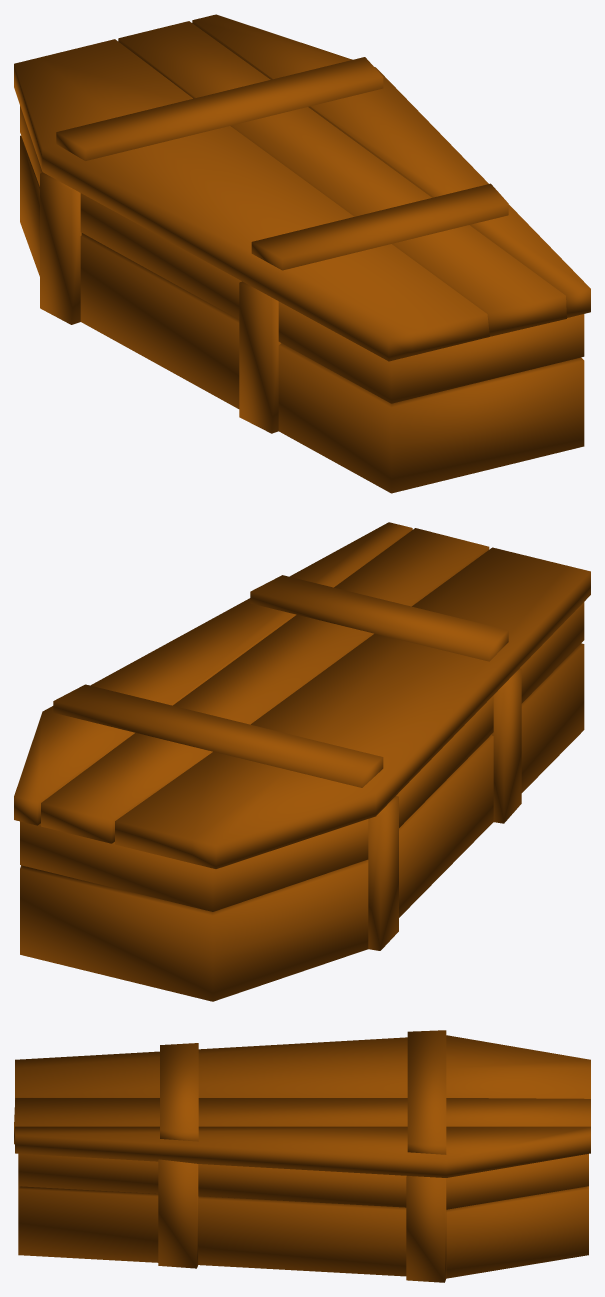
File: Western_WoodCoffin_Parts.fbx
The picture shows the model from 3 angles, top to bottom: view 1: azimuth 30°, elevation 25°; view 2: azimuth 150°, elevation 25°; view 3: azimuth 270°, elevation 25°; orthographic projection. The views are drawn at different scales.
Parts seen in each view (by area): view 1: CoffinWood.Parts, CoffinWood.Parts.005, CoffinWood.Parts.004, CoffinWood.Parts.003, CoffinWood.Parts.002, CoffinWood.Parts.001, CoffinWood.Parts.007, CoffinWood.Parts.006; view 2: CoffinWood.Parts, CoffinWood.Parts.005, CoffinWood.Parts.004, CoffinWood.Parts.003, CoffinWood.Parts.002, CoffinWood.Parts.001, CoffinWood.Parts.007, CoffinWood.Parts.006; view 3: CoffinWood.Parts, CoffinWood.Parts.005, CoffinWood.Parts.003, CoffinWood.Parts.004, CoffinWood.Parts.002, CoffinWood.Parts.009, CoffinWood.Parts.008, CoffinWood.Parts.001.
Boxes of the visible parts, left/top/right/bottom form: CoffinWood.Parts: left=20, top=106, right=584, bottom=493; CoffinWood.Parts.005: left=14, top=39, right=489, bottom=361; CoffinWood.Parts.004: left=118, top=21, right=566, bottom=336; CoffinWood.Parts.003: left=192, top=14, right=590, bottom=317; CoffinWood.Parts.002: left=56, top=57, right=383, bottom=160; CoffinWood.Parts.001: left=251, top=183, right=508, bottom=270; CoffinWood.Parts.007: left=40, top=172, right=81, bottom=324; CoffinWood.Parts.006: left=239, top=281, right=280, bottom=433; CoffinWood.Parts: left=20, top=602, right=584, bottom=1001; CoffinWood.Parts.005: left=115, top=547, right=590, bottom=868; CoffinWood.Parts.004: left=41, top=528, right=489, bottom=843; CoffinWood.Parts.003: left=14, top=522, right=412, bottom=825; CoffinWood.Parts.002: left=53, top=684, right=383, bottom=787; CoffinWood.Parts.001: left=250, top=575, right=508, bottom=661; CoffinWood.Parts.007: left=368, top=796, right=398, bottom=950; CoffinWood.Parts.006: left=492, top=668, right=521, bottom=823; CoffinWood.Parts: left=18, top=1153, right=588, bottom=1278; CoffinWood.Parts.005: left=15, top=1035, right=590, bottom=1099; CoffinWood.Parts.003: left=15, top=1126, right=590, bottom=1177; CoffinWood.Parts.004: left=14, top=1098, right=590, bottom=1144; CoffinWood.Parts.002: left=407, top=1030, right=446, bottom=1154; CoffinWood.Parts.009: left=158, top=1159, right=198, bottom=1268; CoffinWood.Parts.008: left=406, top=1176, right=446, bottom=1282; CoffinWood.Parts.001: left=160, top=1043, right=198, bottom=1141.
Bounding box in the file's own units: 118 × 56.54 × 225.
1 material, 1 textured.
